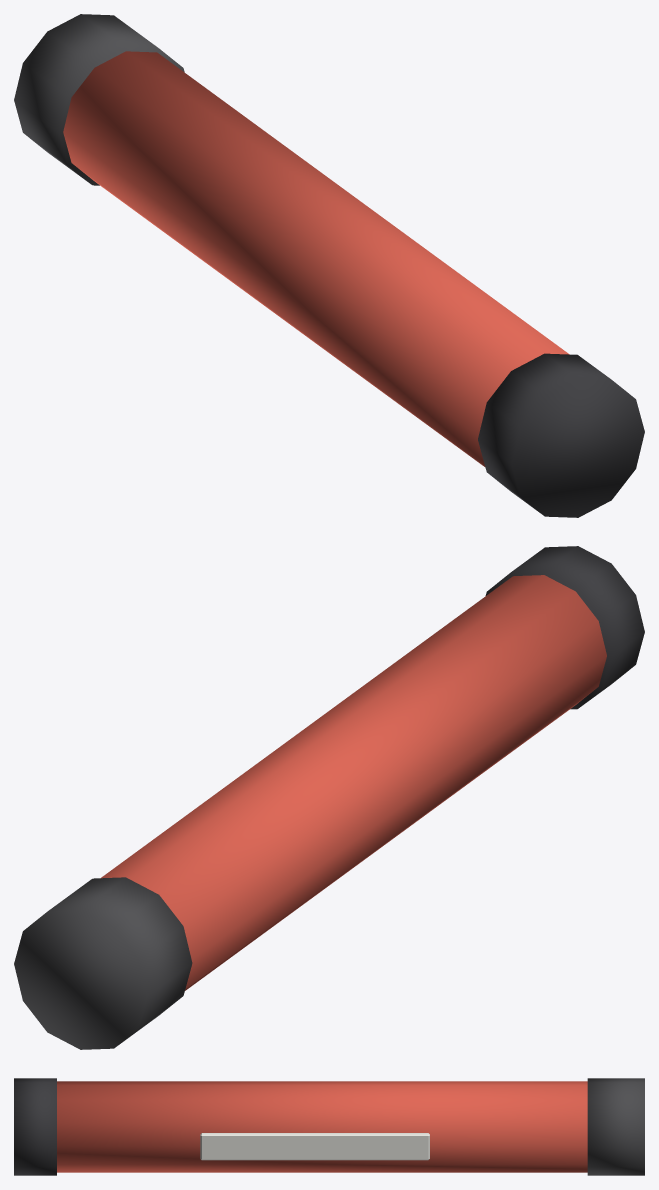
File: flare.glb
3 renders of one model, top to bottom at view 1: azimuth 30°, elevation 25°; view 2: azimuth 150°, elevation 25°; view 3: azimuth 270°, elevation 25°, orthographic. The views are drawn at different scales.
Parts seen in each view (by area): view 1: Flare; view 2: Flare; view 3: Flare.
Boxes of the visible parts, x1,y1,x2,y2 form: Flare: (14, 14, 644, 517); Flare: (14, 546, 644, 1049); Flare: (14, 1078, 644, 1175).
Size of the model in its own units: 0.0342 by 0.034 by 0.22.
